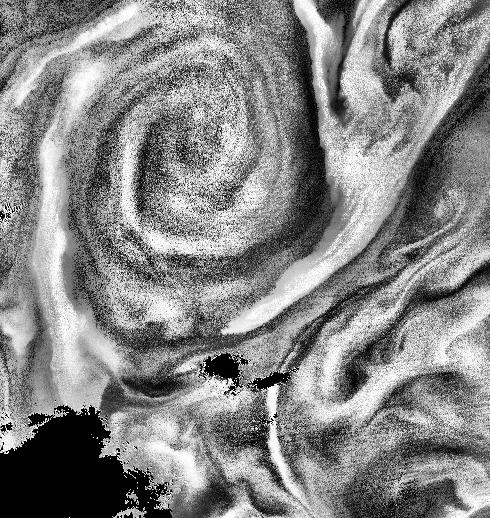AE: (51, 22, 297, 259)
